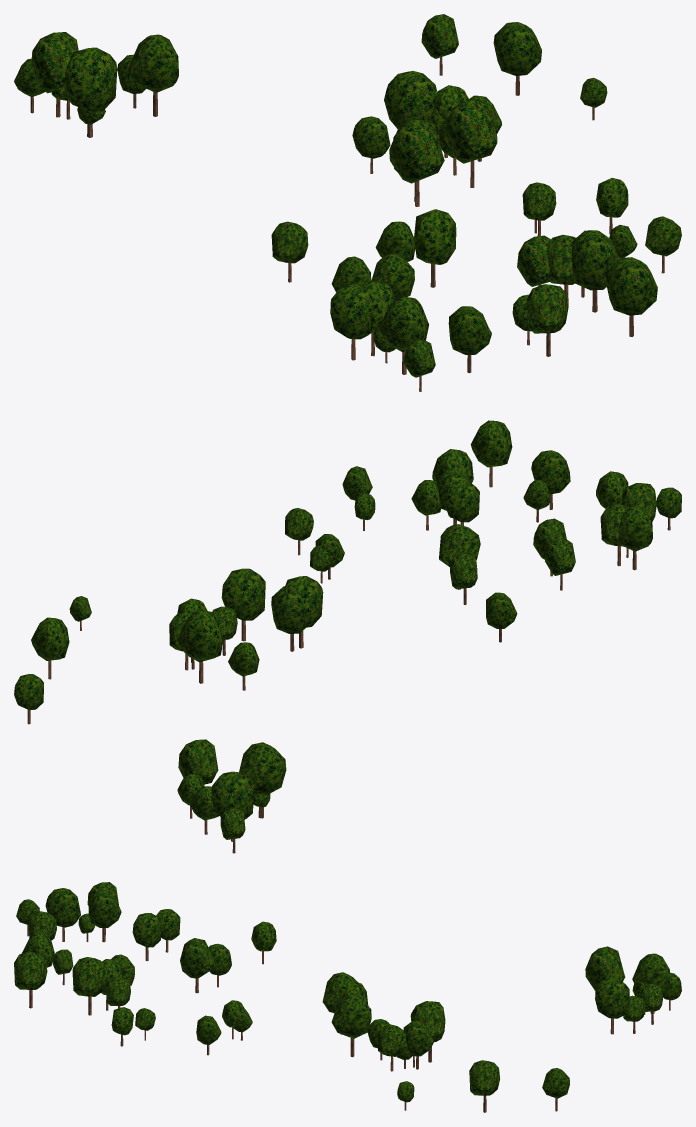
The model's file is TreeLowGroup1.fbx.
3 views of the same model, one above another, from view 1: azimuth 30°, elevation 25°; view 2: azimuth 150°, elevation 25°; view 3: azimuth 270°, elevation 25° (orthographic). The views are drawn at different scales.
Parts seen in each view (by area): view 1: Group1.001; view 2: Group1.001; view 3: Group1.001.
Boxes of the visible parts, bbox=[...] form: Group1.001: bbox=[14, 14, 681, 391]; Group1.001: bbox=[14, 420, 681, 853]; Group1.001: bbox=[14, 882, 681, 1112].
Bounding box in the file's own units: 6122 × 1833 × 10351.
